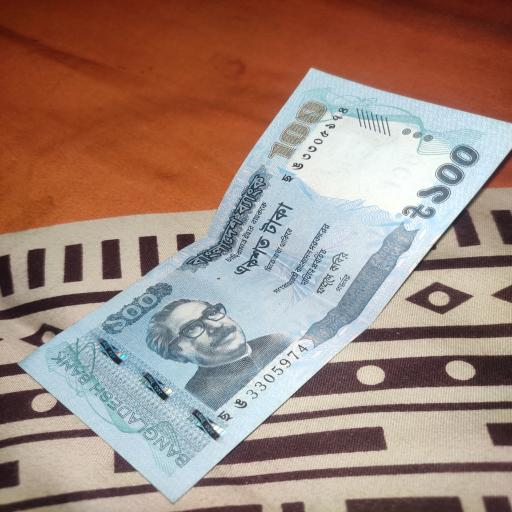100taka: (17, 66, 512, 503)
